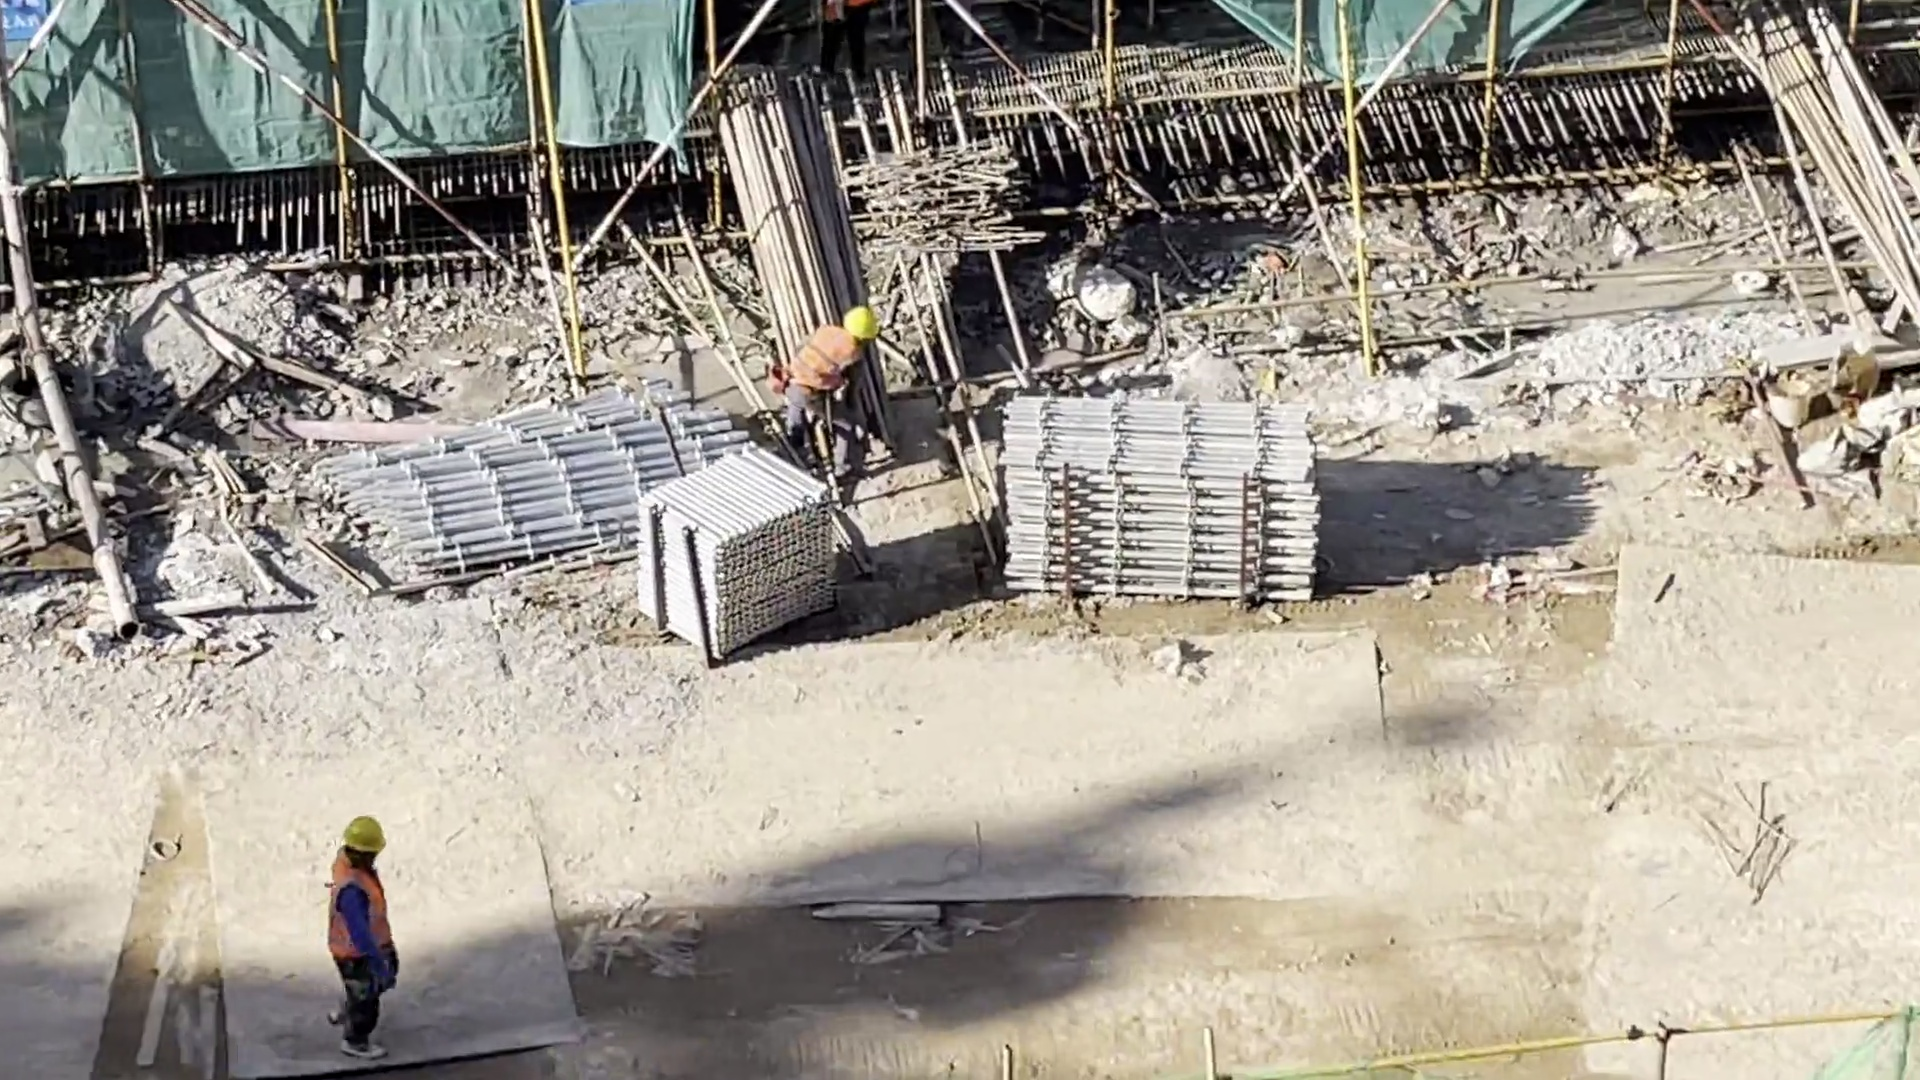helmet: (838, 301, 889, 358), (329, 812, 389, 860)
person: (318, 795, 410, 1069), (777, 290, 882, 487)
scaffold: (988, 371, 1341, 628), (315, 382, 725, 590), (618, 442, 833, 675)
vest: (326, 854, 395, 963), (788, 323, 866, 397)
